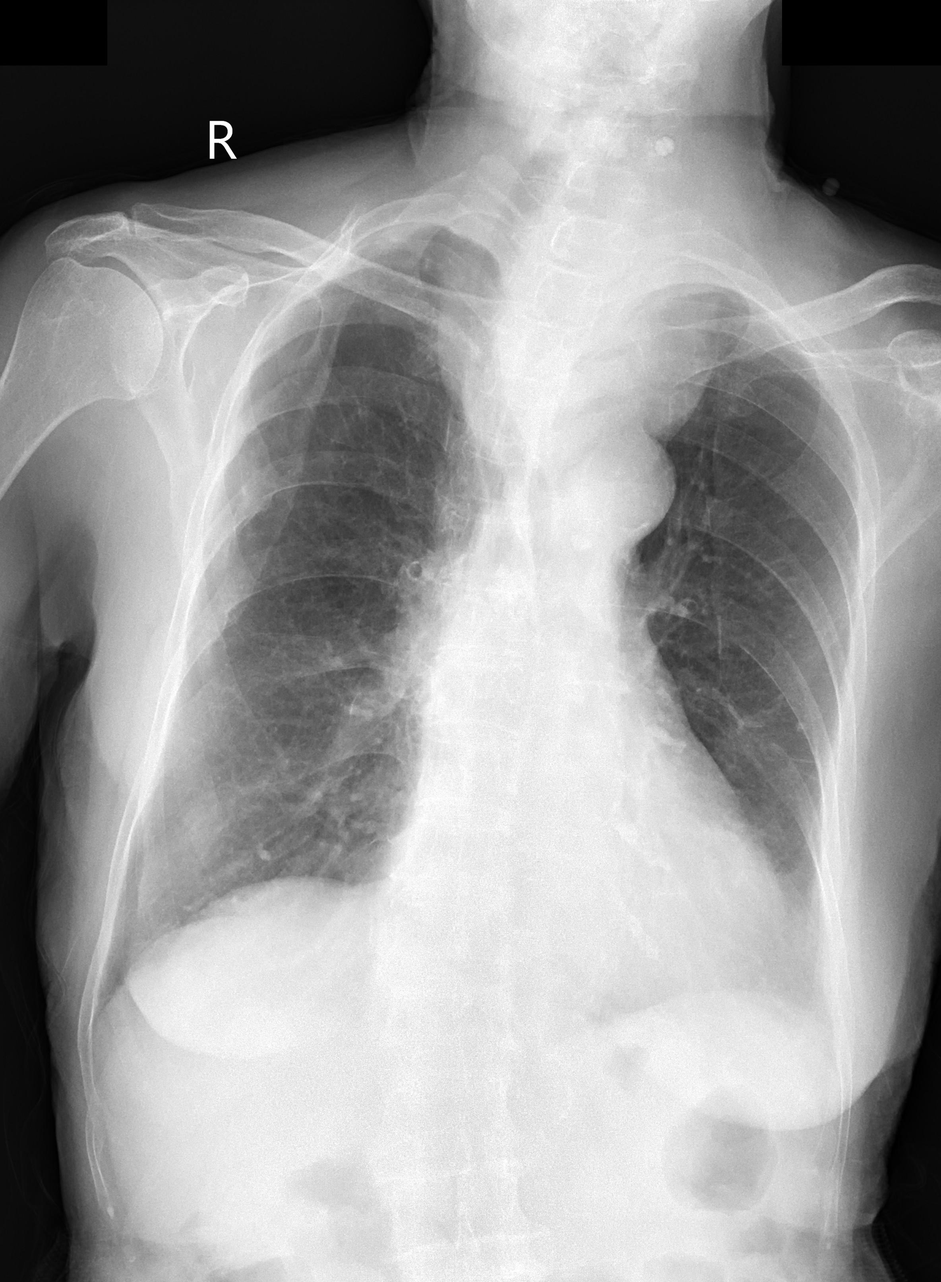Aortic enlargement: (543, 417, 678, 629)
Cardiomegaly: (384, 786, 788, 984)
Pleural thickening: (739, 849, 878, 1056), (598, 277, 767, 316)
